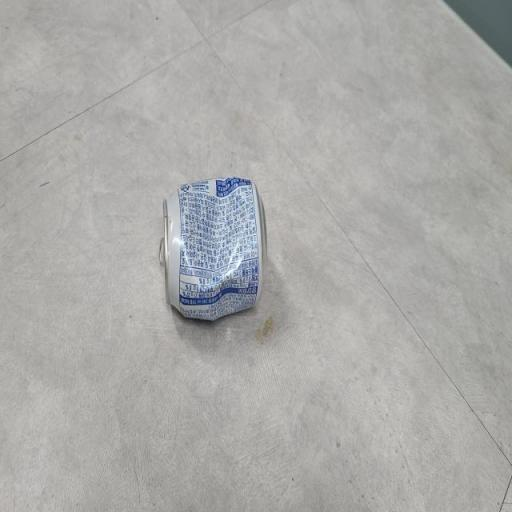metal: (146, 158, 272, 336)
